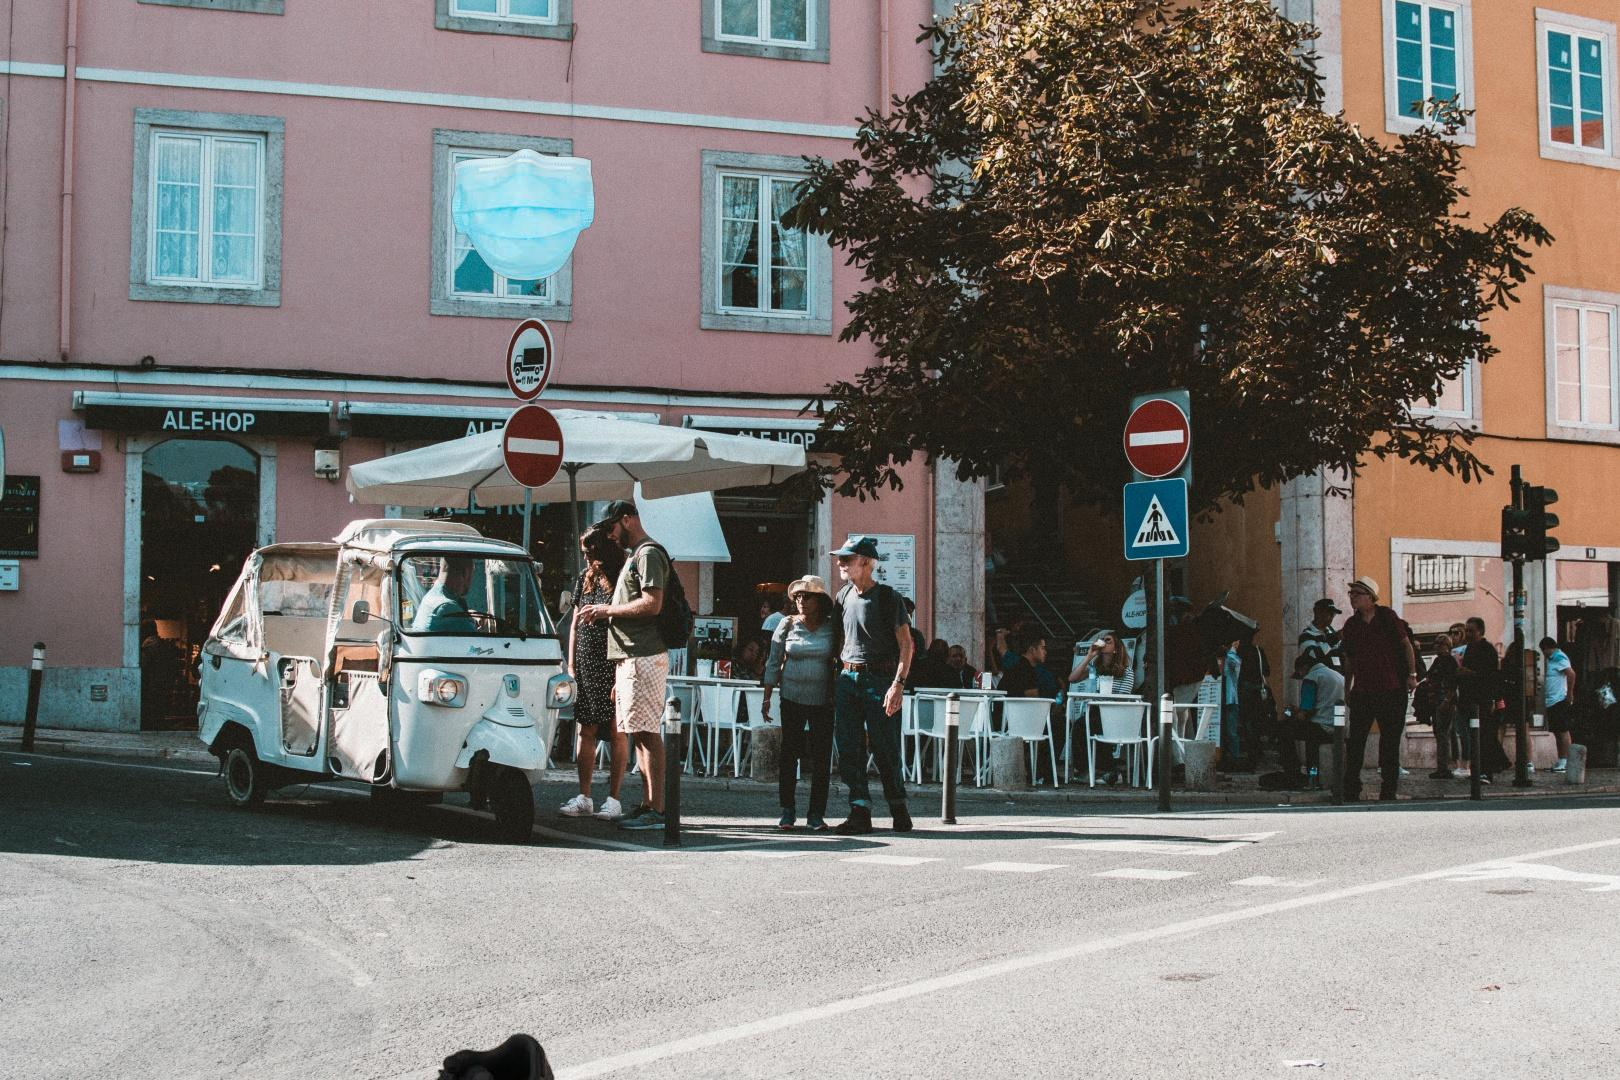shoes: (342, 1029, 630, 1080)
trash: (450, 146, 598, 283)
